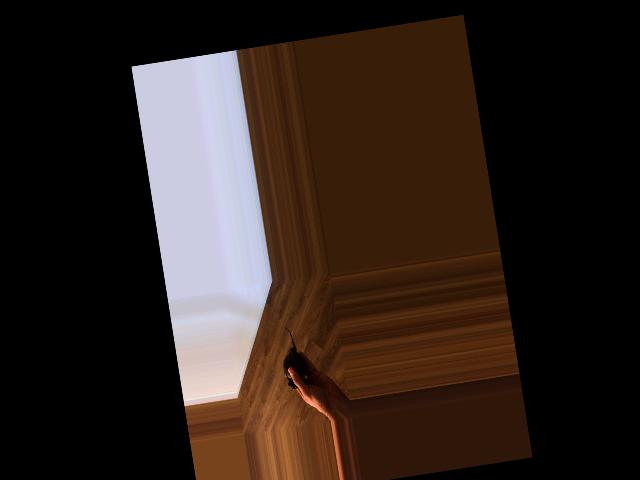beet: (277, 324, 309, 389)
